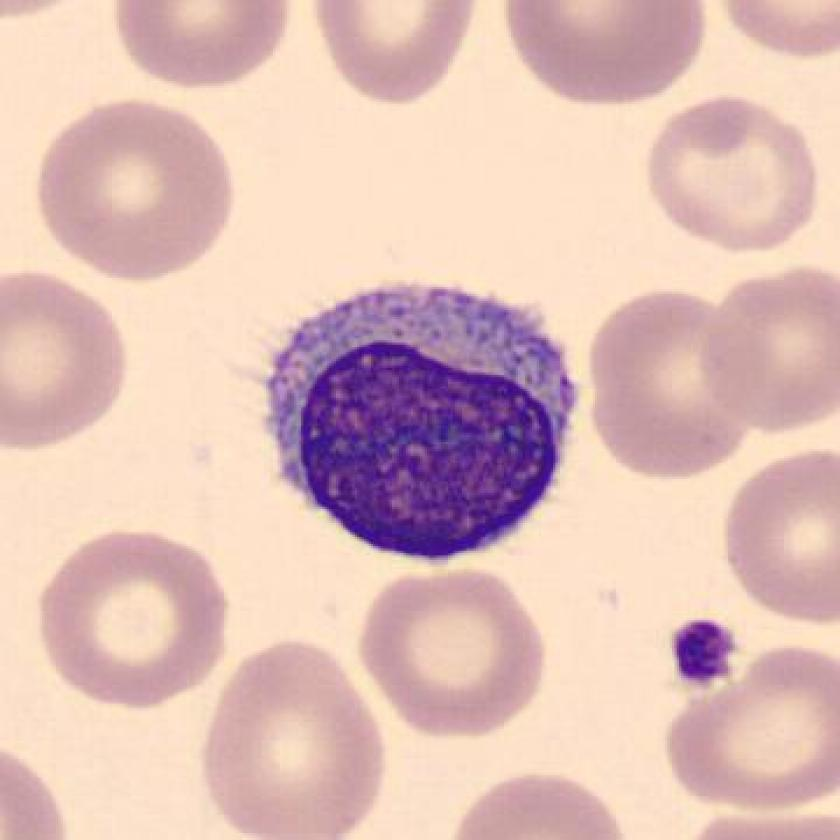lymphocyte: (246, 272, 598, 575)
